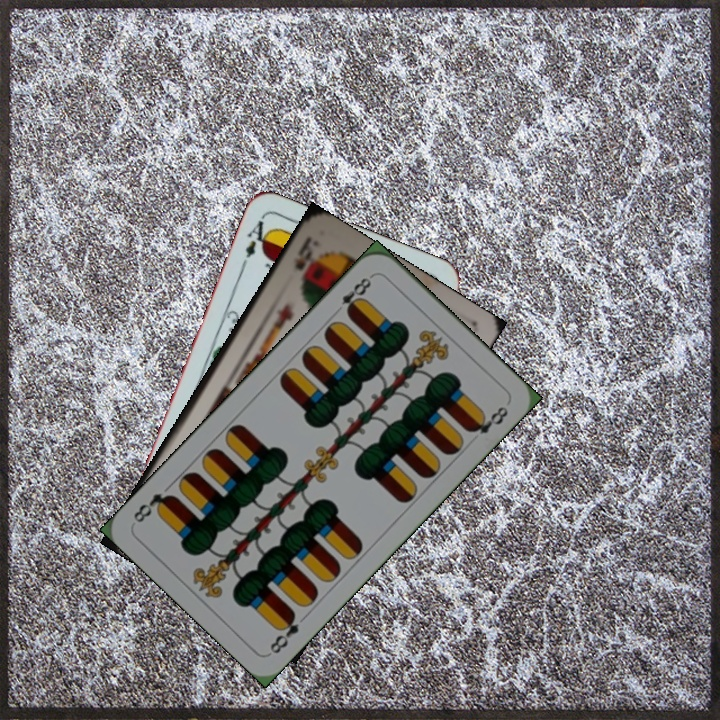E8: (265, 607, 302, 657), (337, 271, 376, 318)
EA: (237, 214, 273, 271)
SK: (289, 232, 317, 282)
